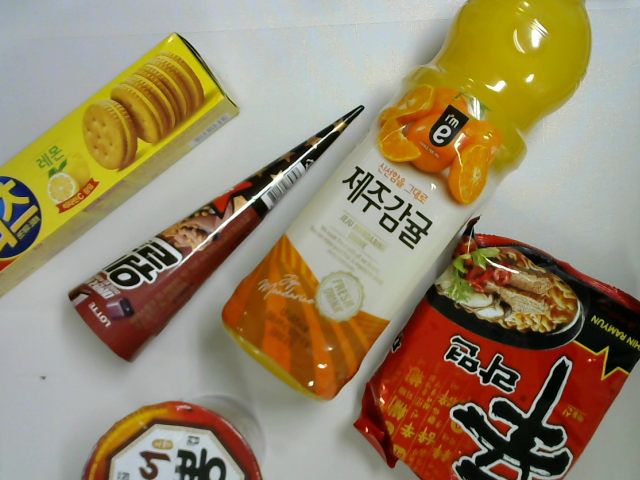GooGoo_Cone_CVS: (68, 104, 366, 363)
Jeju_Tangerine_1.5L: (216, 1, 594, 403)
Ojjam: (79, 399, 271, 480)
Ritz_Remon_96g: (1, 32, 241, 303)
Sinramen: (352, 219, 640, 480)
